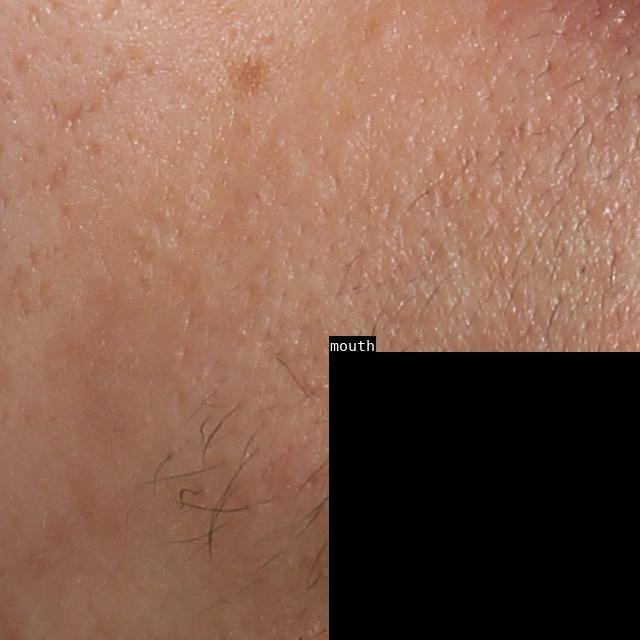atrophic_scar: (54, 101, 87, 135)
